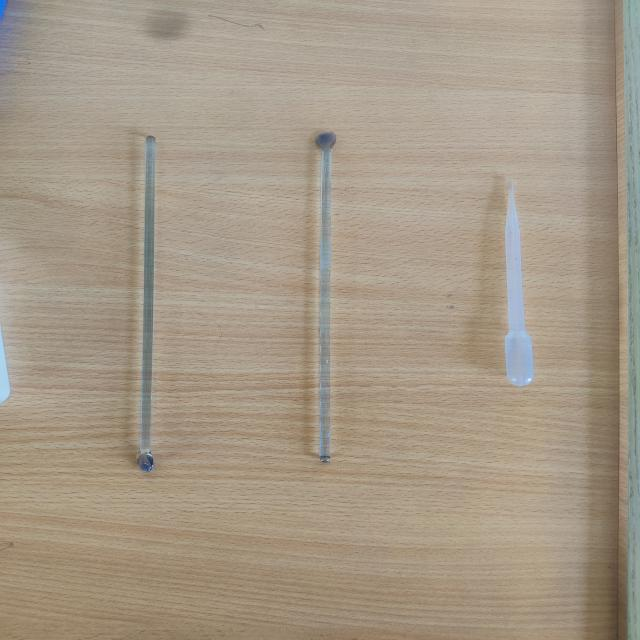Glass_Rod: (278, 90, 389, 491), (90, 114, 205, 483)
Pipette: (448, 157, 584, 430)
